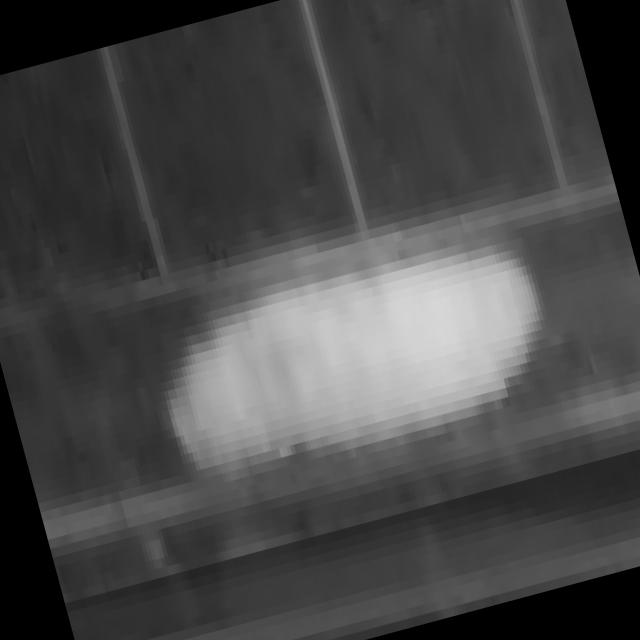larva: (137, 208, 578, 528)
